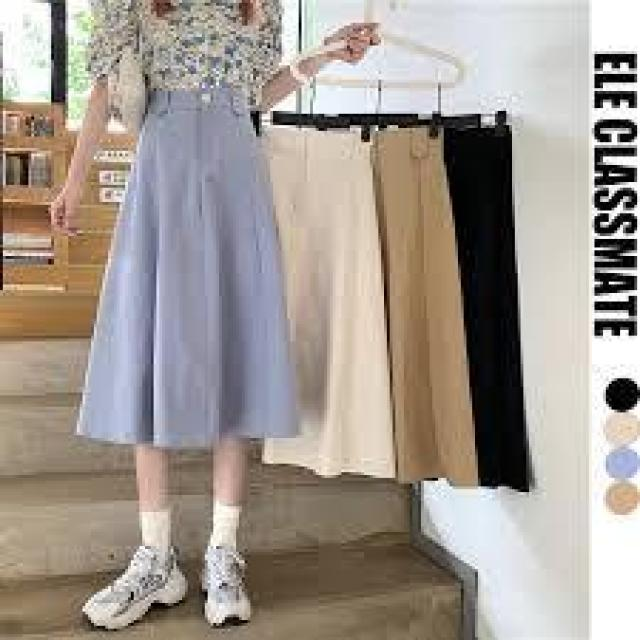skirt: (72, 81, 312, 457)
